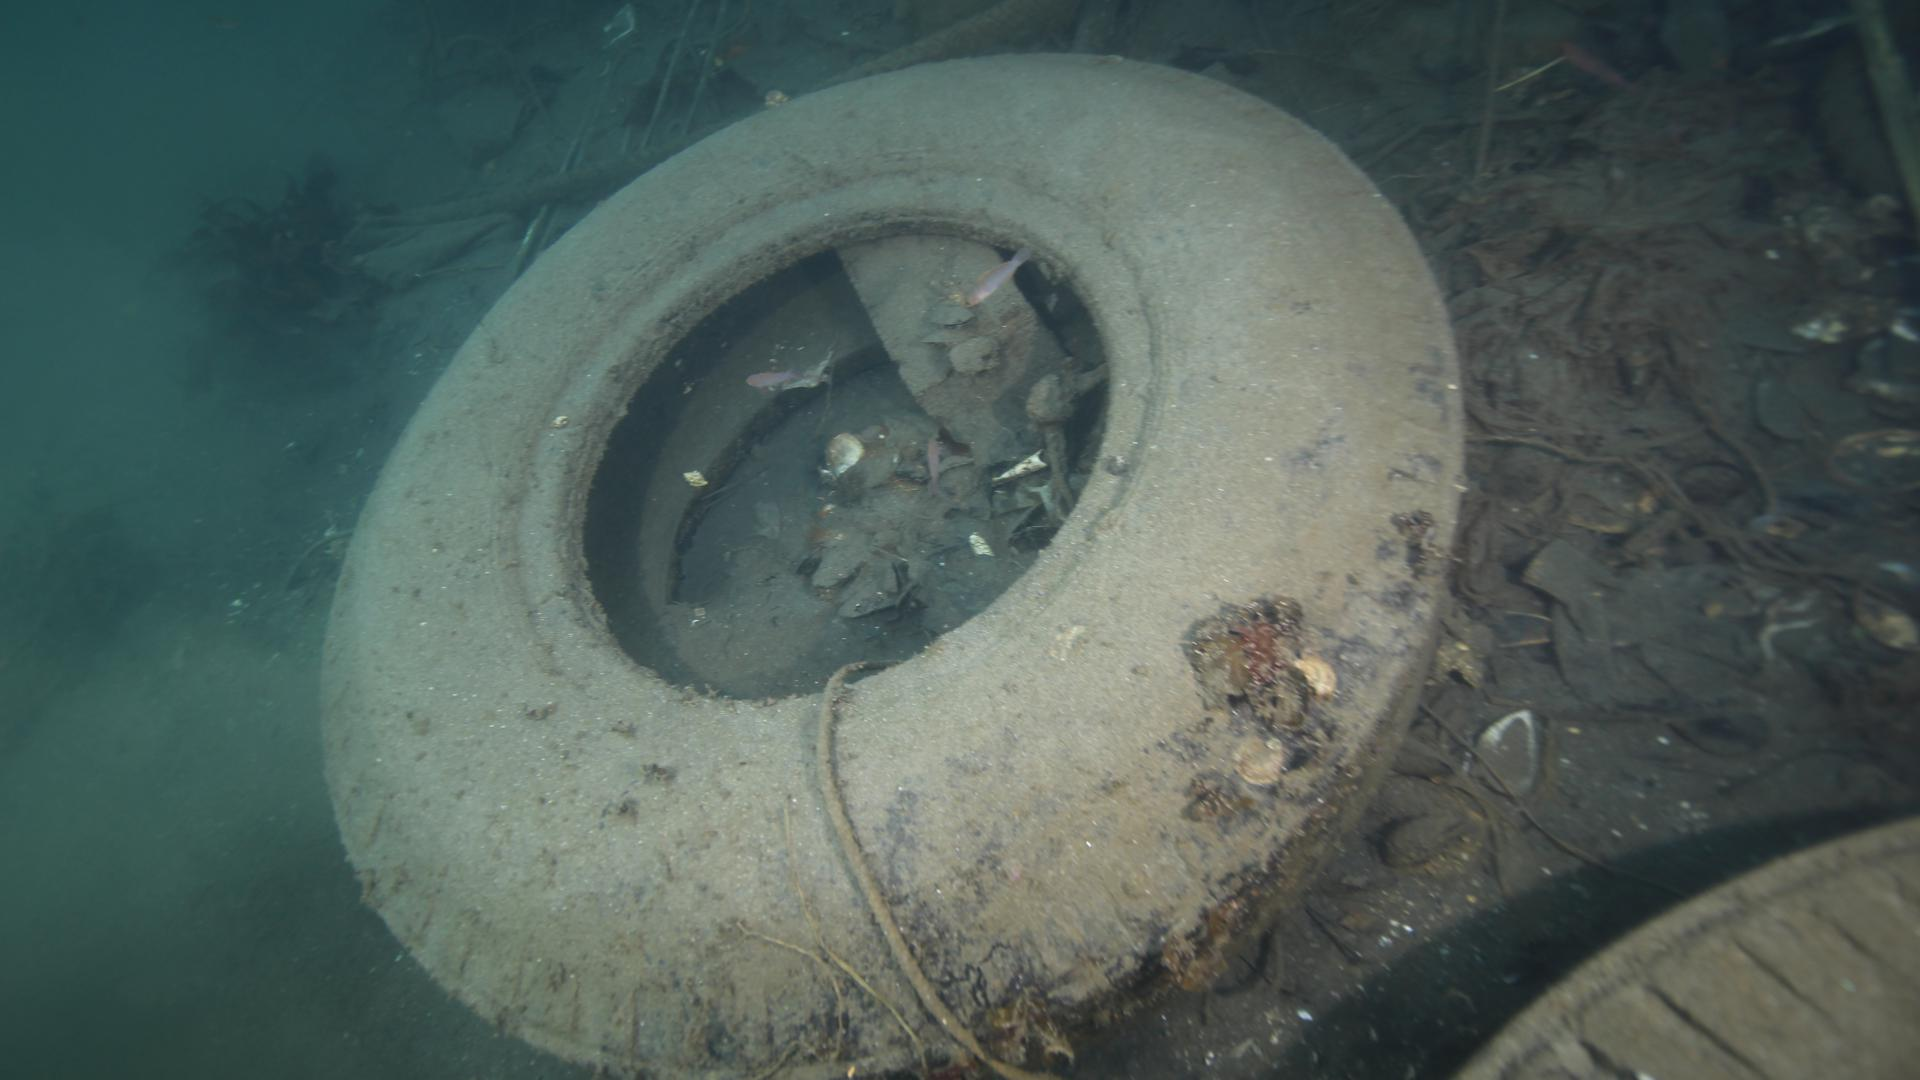tire: (314, 49, 1469, 1080)
